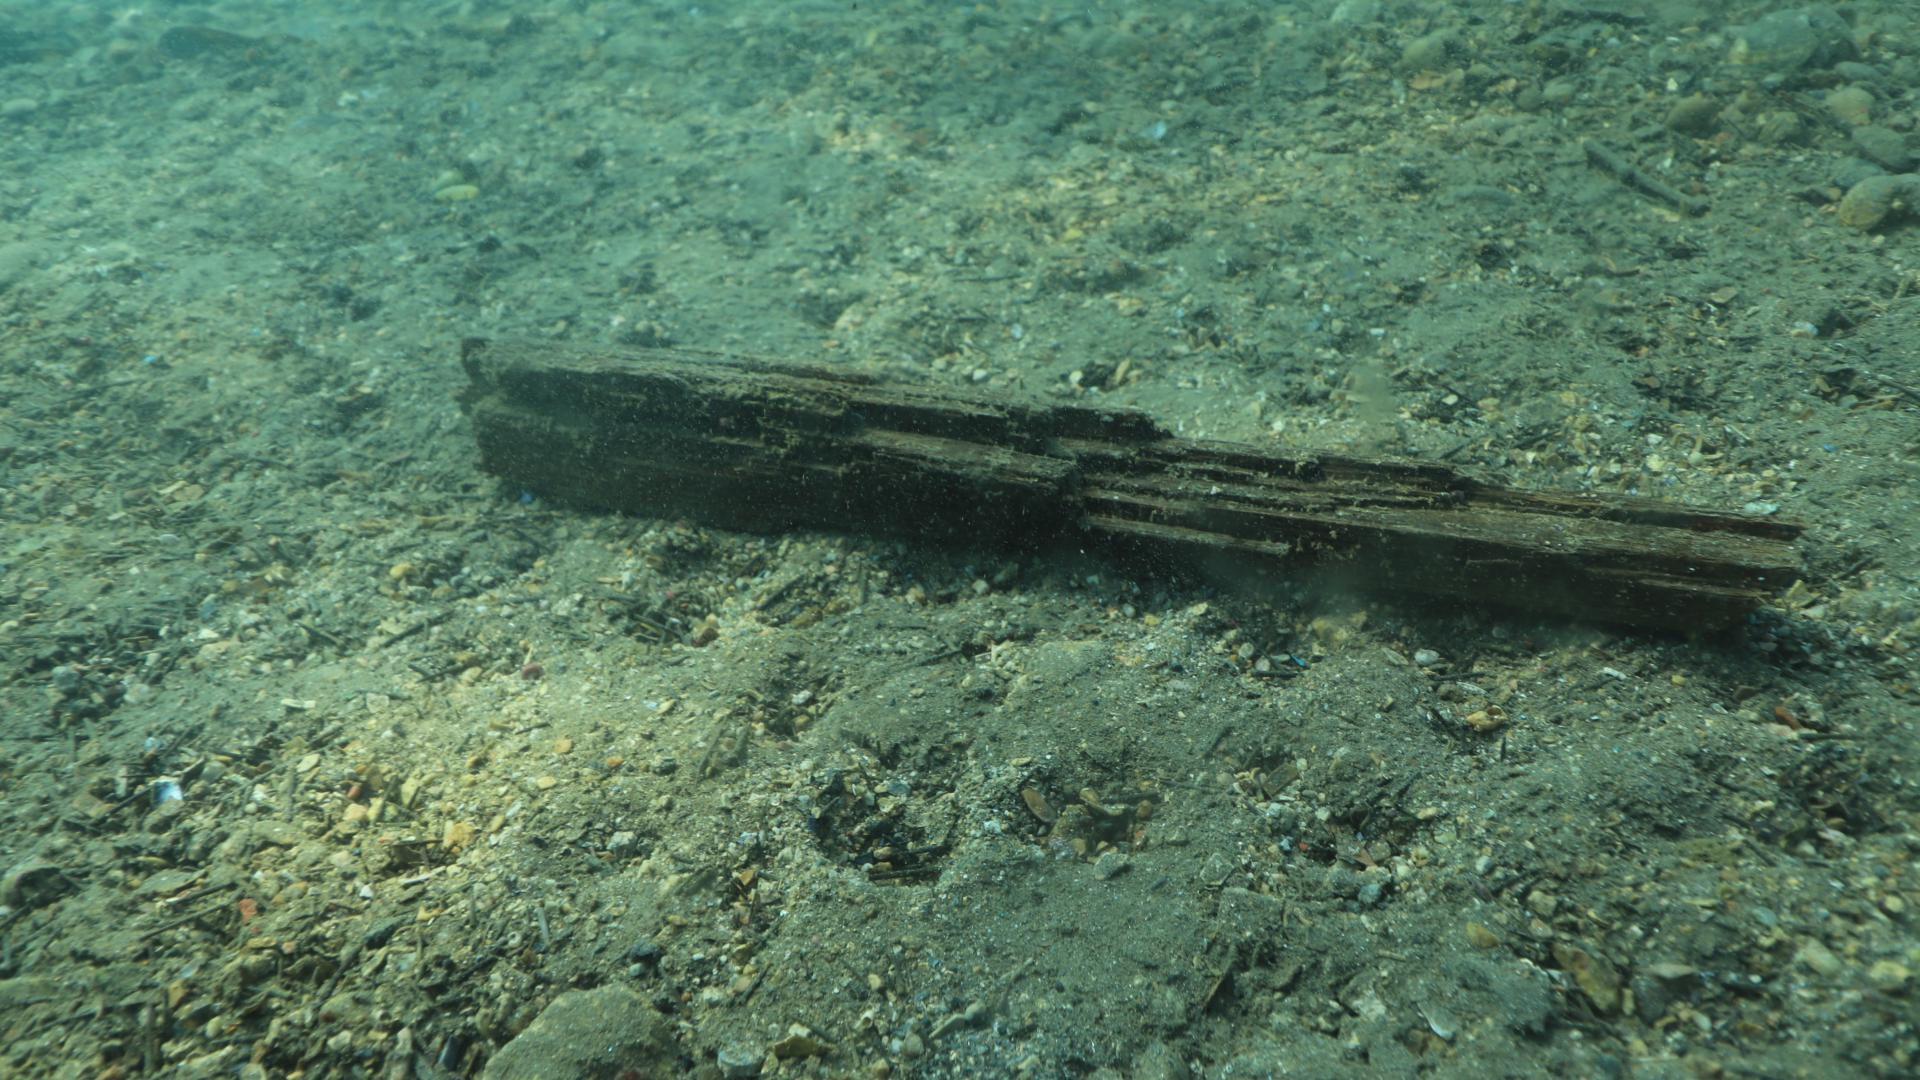wood: (451, 334, 1811, 636)
